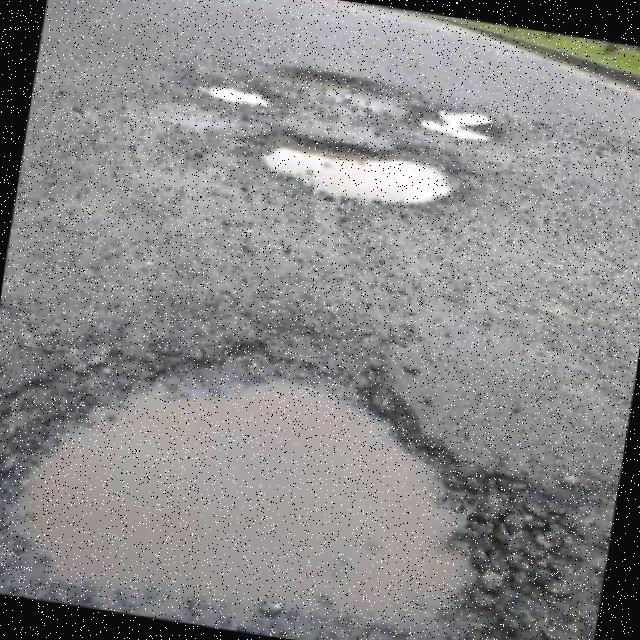Pothole: (0, 348, 548, 640), (259, 130, 463, 207), (195, 83, 281, 114), (420, 111, 492, 145)
